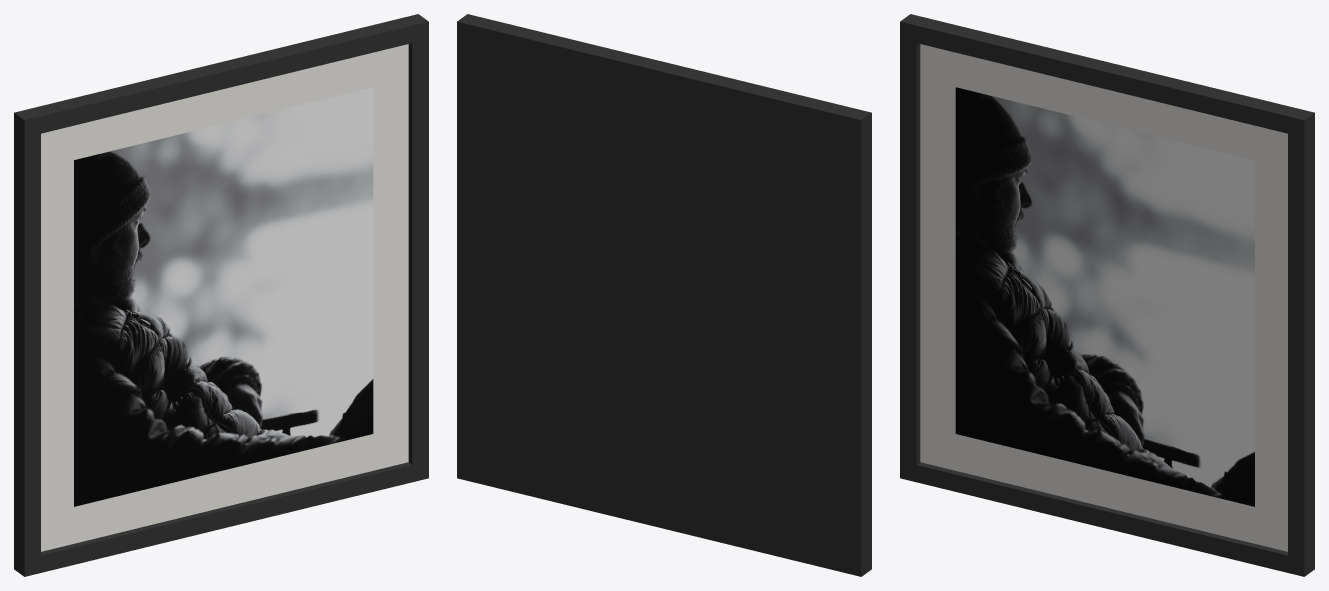
The model's file is vid-fonstret-40.gltf.
The picture shows the model from 3 angles, left to right: view 1: azimuth 30°, elevation 25°; view 2: azimuth 150°, elevation 25°; view 3: azimuth 330°, elevation 25°; orthographic projection.
Parts seen in each view (by area): view 1: tavla; view 2: tavla; view 3: tavla.
Boxes of the visible parts, left/top/right/bottom form: tavla: left=14, top=14, right=428, bottom=576; tavla: left=457, top=14, right=871, bottom=576; tavla: left=900, top=14, right=1314, bottom=576.
Bounding box in the file's own units: 0.4883 × 0.5268 × 0.022.
3 materials, 1 textured.
